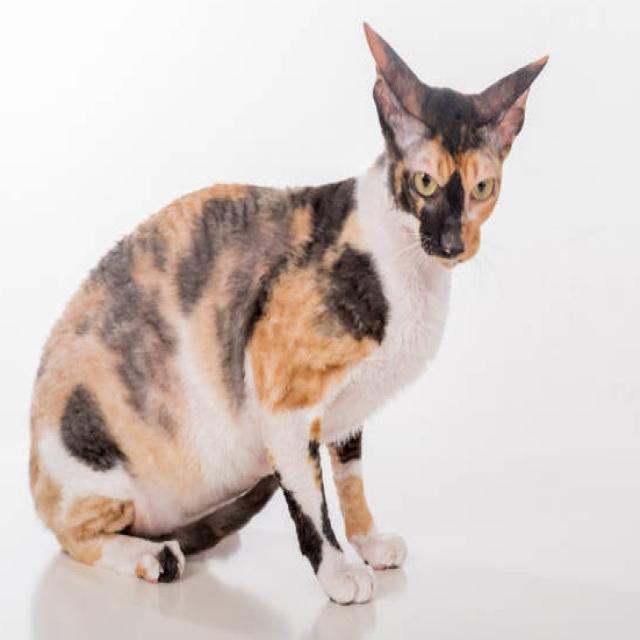Cornish Rex: (22, 12, 554, 610)
